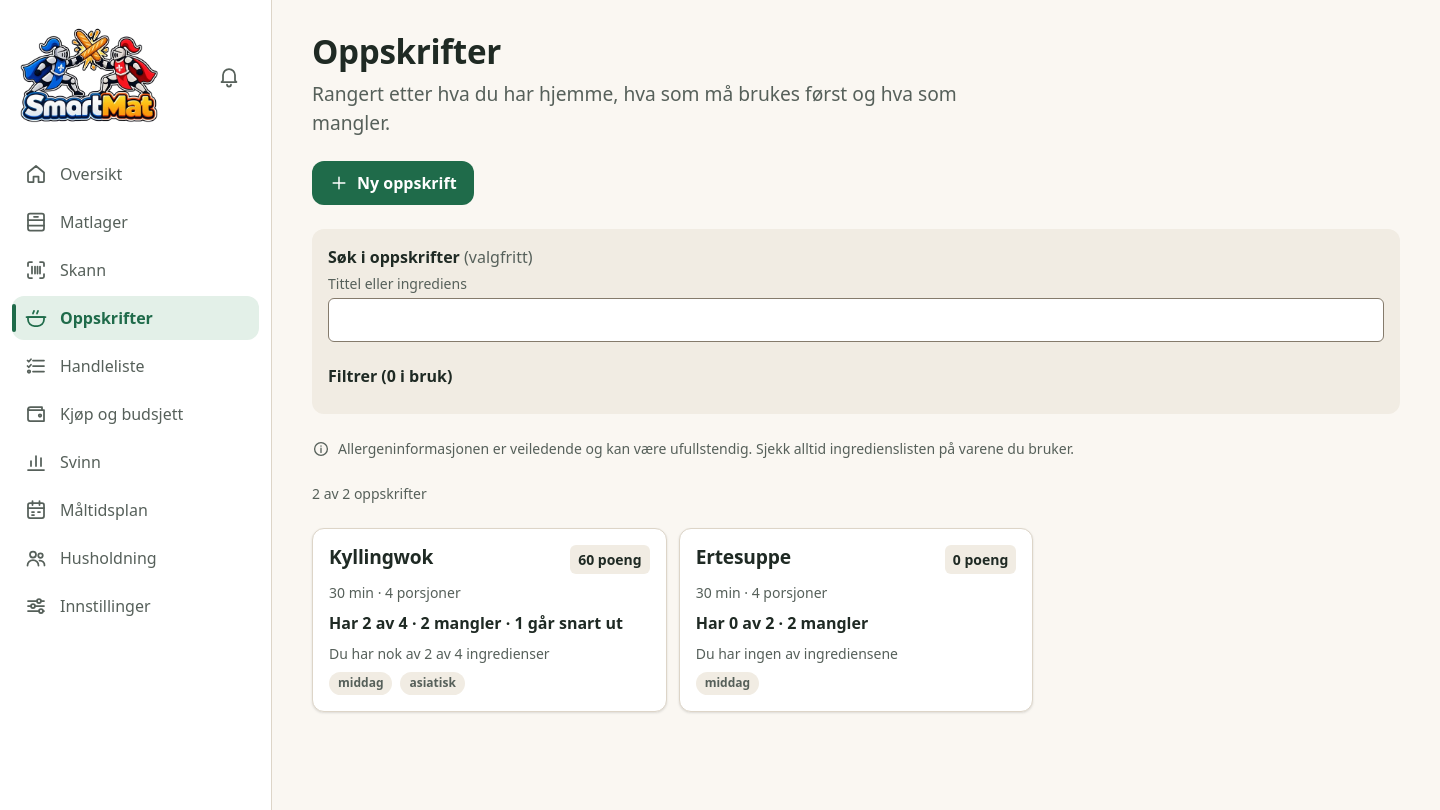
Test: FR-REC-001/002 recipe list › search filters the list and is kept in the URL
Type "erter" into the search field labelled "Søk i oppskrifter (valgfritt)" at (856, 320), box [328,298,1384,342]
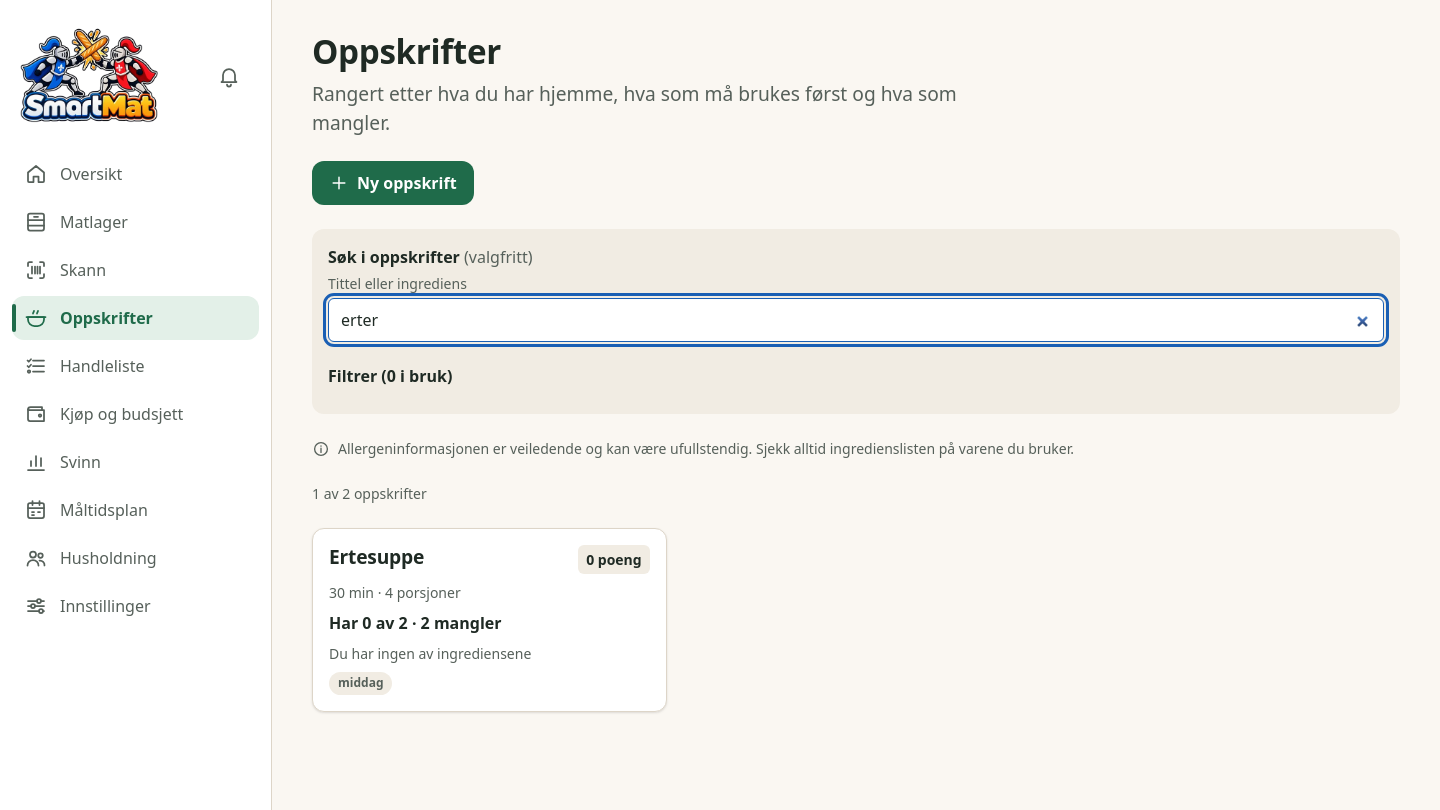
expect the link "Ertesuppe" is shown: met, box [329,543,424,570]
expect the link "Kyllingwok" is gone: met
